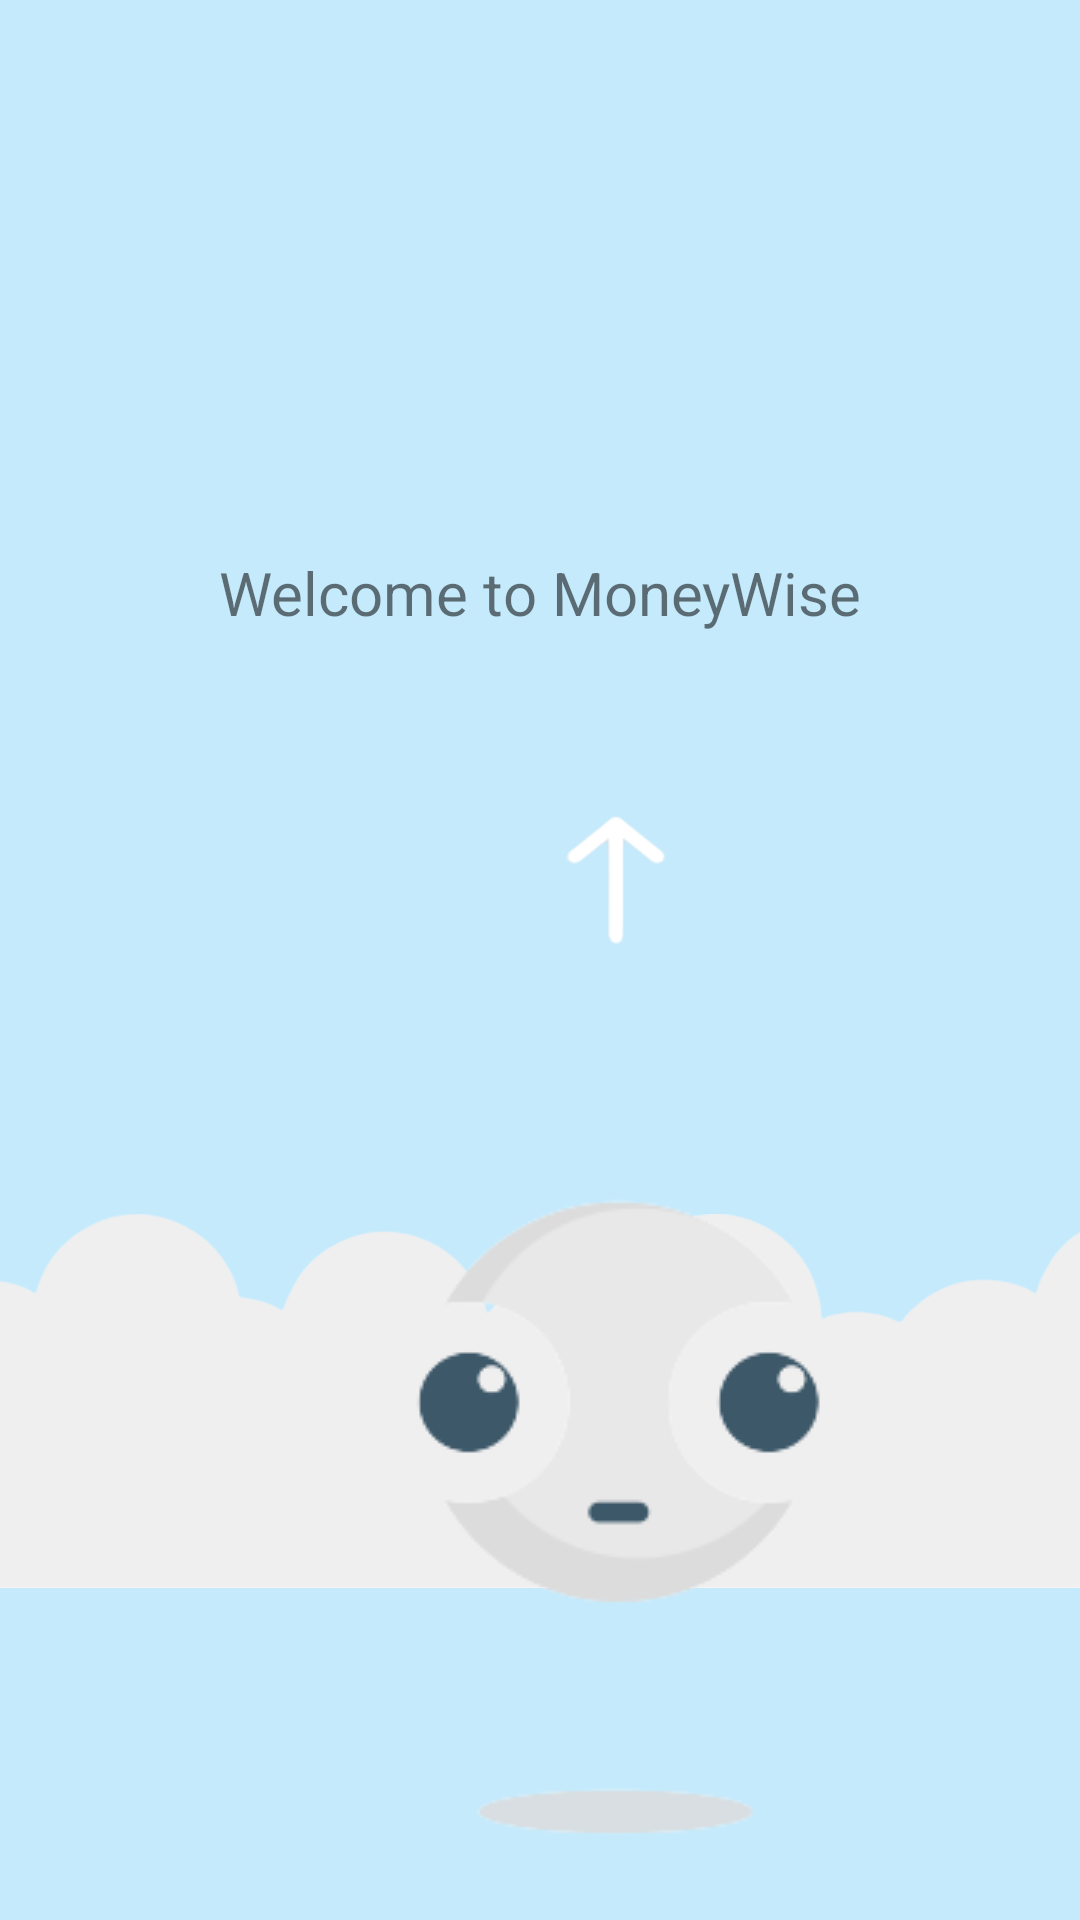

Point at icon controls on the screen. Image size 1080 x 1920, points as [x,y].
tutorial arrow: [615,880]
